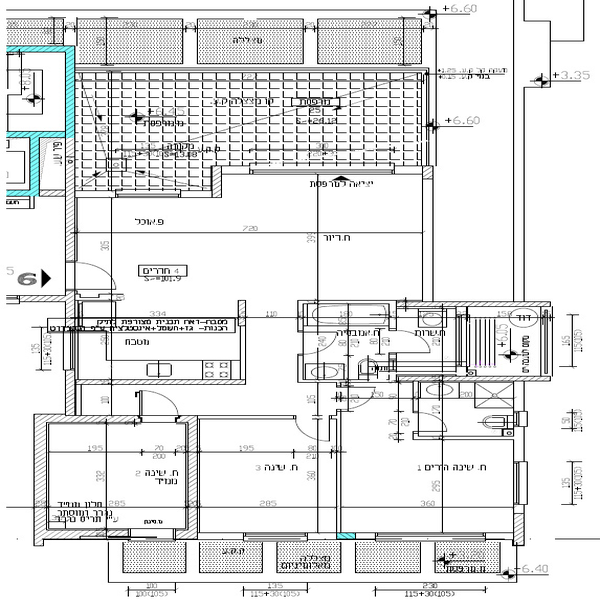door: (61, 261, 119, 293), (135, 386, 177, 426), (380, 328, 438, 354), (293, 414, 334, 447), (335, 384, 377, 413), (299, 327, 338, 357), (413, 410, 450, 434)
room: (333, 413, 526, 535), (31, 413, 206, 533), (185, 420, 343, 534)
wall: (64, 44, 77, 263), (33, 414, 47, 538), (187, 418, 197, 538), (398, 300, 549, 307), (36, 414, 137, 424), (29, 131, 40, 199), (5, 44, 68, 54), (21, 295, 73, 302)
window: (253, 163, 397, 175), (375, 533, 487, 544), (116, 185, 178, 198), (245, 533, 307, 542), (517, 460, 528, 504)
